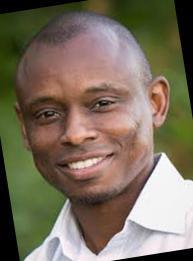Sober: (20, 47, 146, 197)
